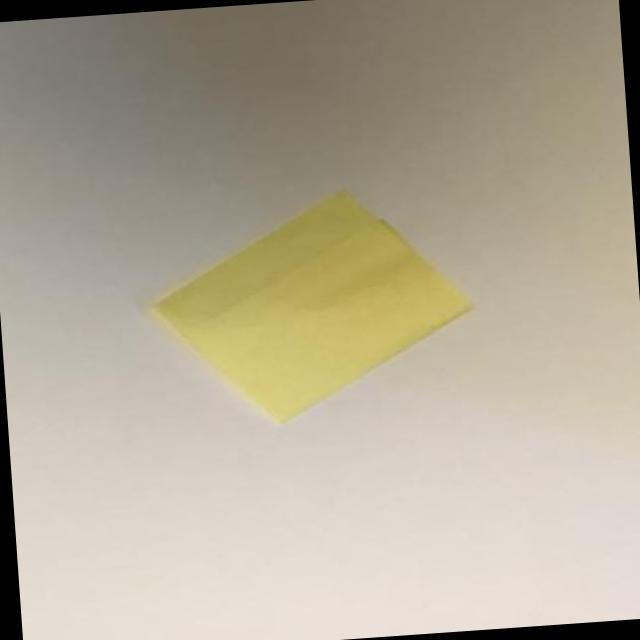paper: (155, 193, 470, 421)
